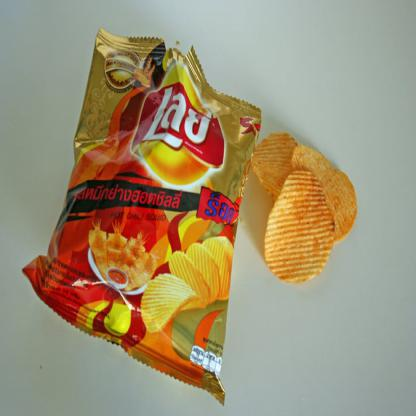potatochip: (20, 22, 266, 412)
